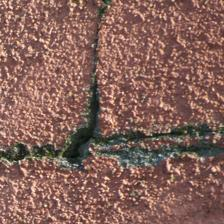Crack: (49, 0, 144, 73), (7, 38, 93, 80)
